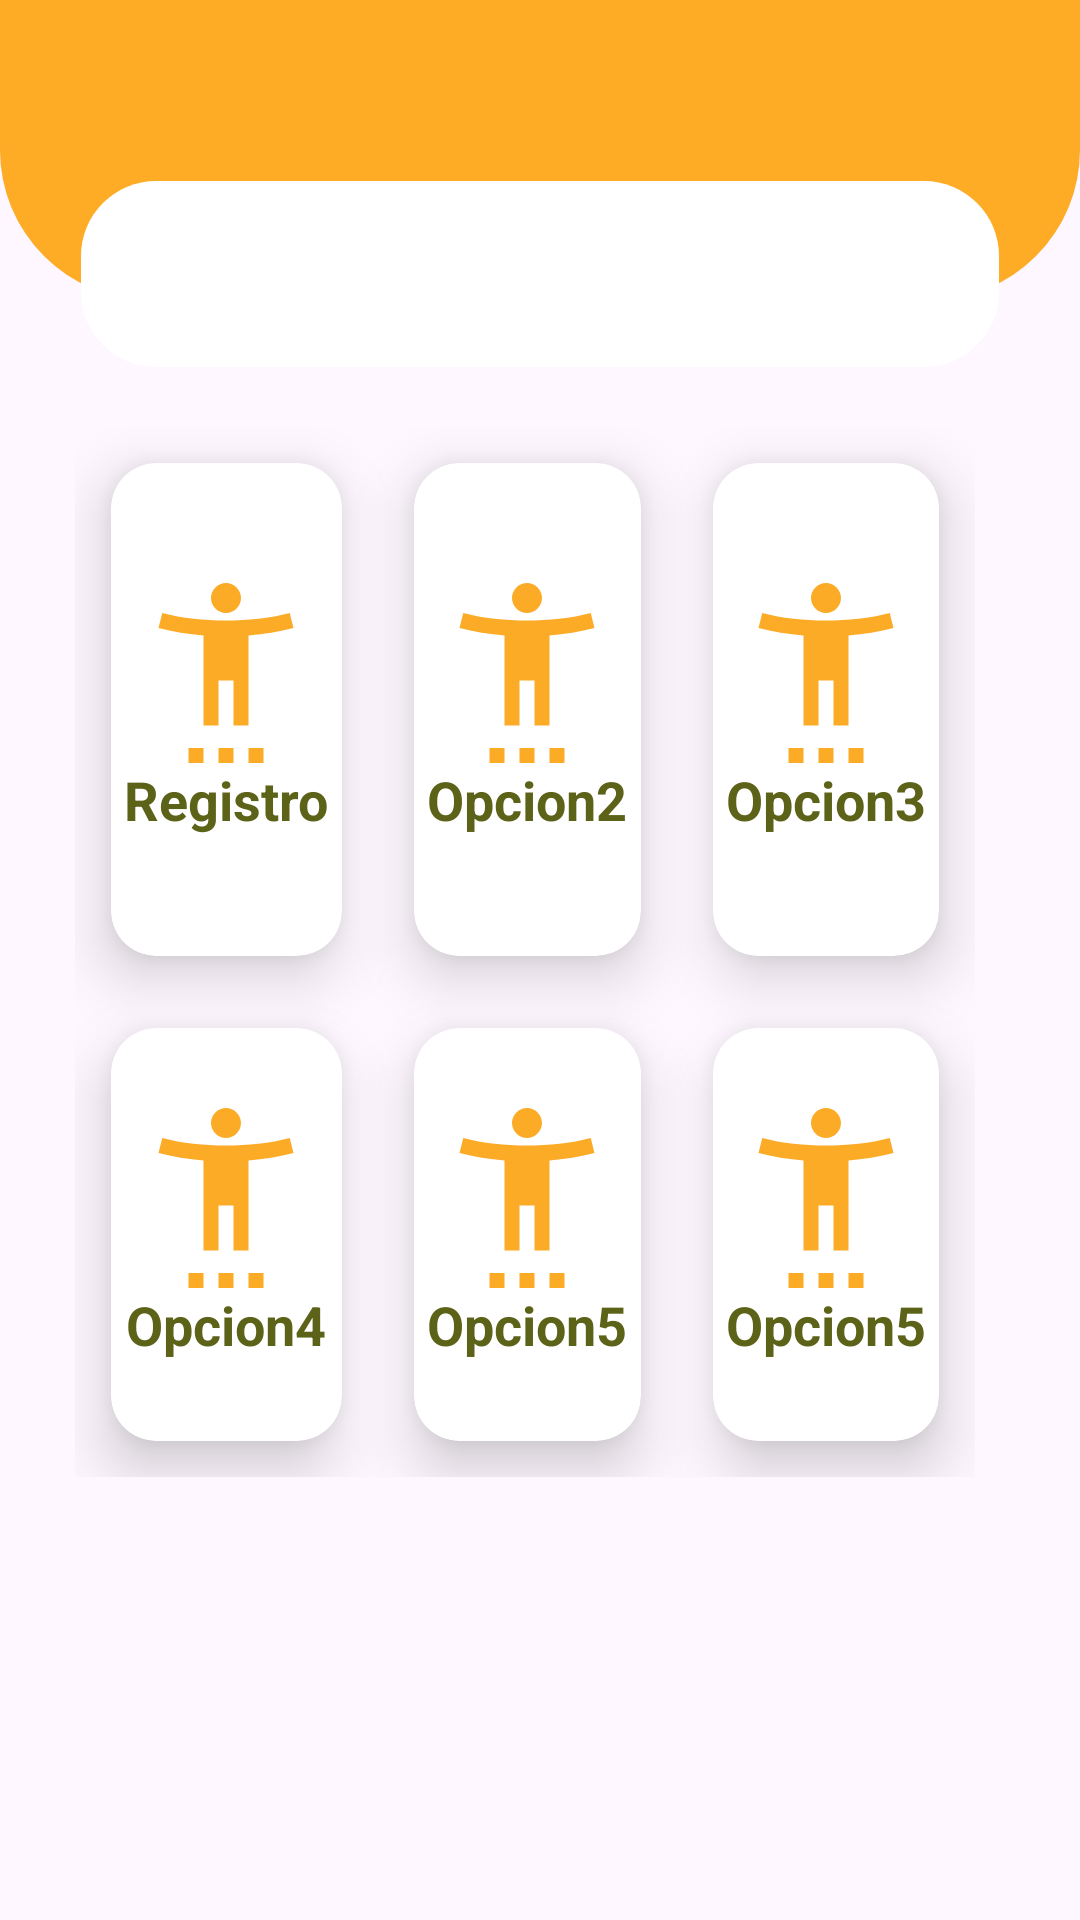

Icons on this 1080px×1920px Android screen, each with the point to tap as point (x, y):
persona: point (226, 673), point (527, 673), point (826, 673), point (226, 1198), point (527, 1198), point (826, 1198)
